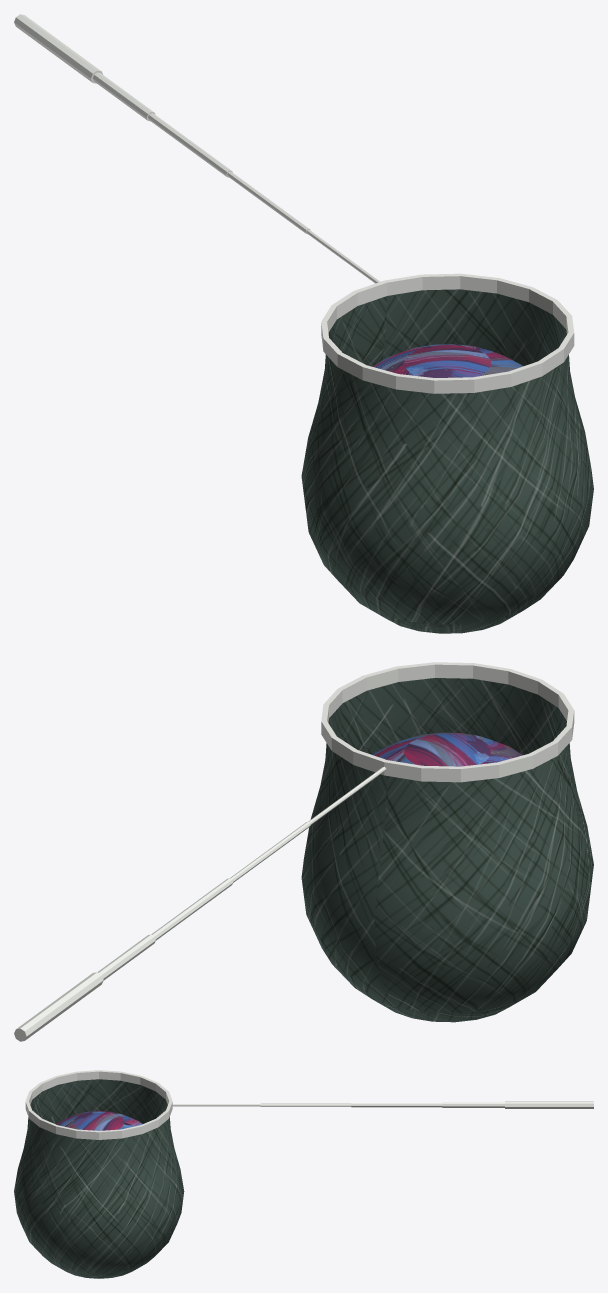
Rendered from BowlingBallNet.fbx.
The picture shows the model from 3 angles, top to bottom: view 1: azimuth 30°, elevation 25°; view 2: azimuth 150°, elevation 25°; view 3: azimuth 270°, elevation 25°; orthographic projection. The views are drawn at different scales.
Visible parts, largest first — view 1: BowlingBallNet; view 2: BowlingBallNet; view 3: BowlingBallNet.
Part boxes in pixels (x1,y1,x2,y2): BowlingBallNet: (14, 14, 593, 633); BowlingBallNet: (14, 662, 593, 1041); BowlingBallNet: (14, 1070, 593, 1278).
Size of the model in its own units: 5098 by 5653 by 17369.
